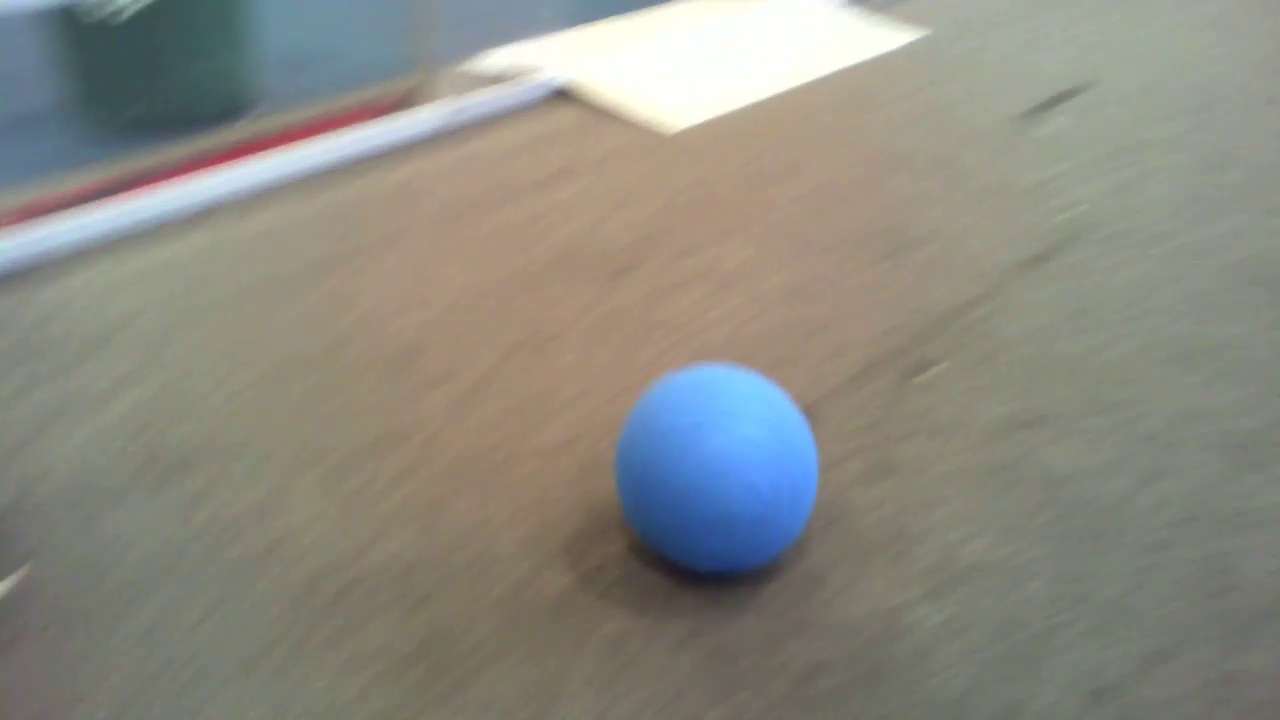blue_cargo: (609, 361, 835, 565)
